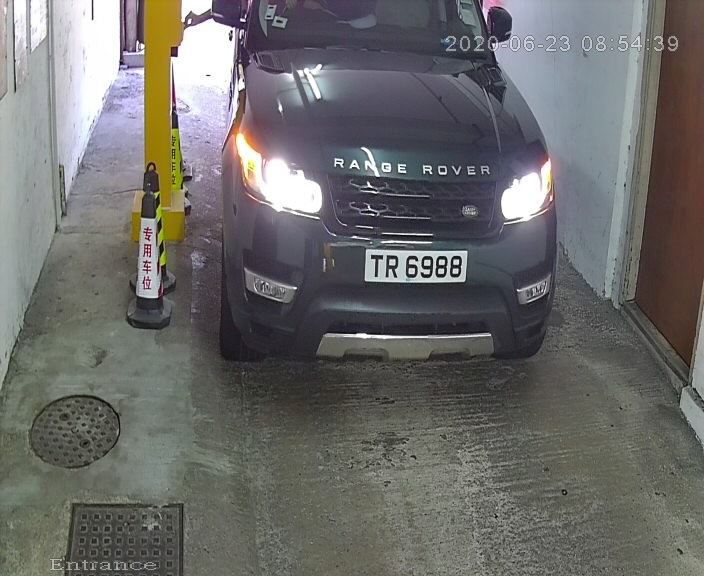privatecar: (194, 1, 612, 397)
